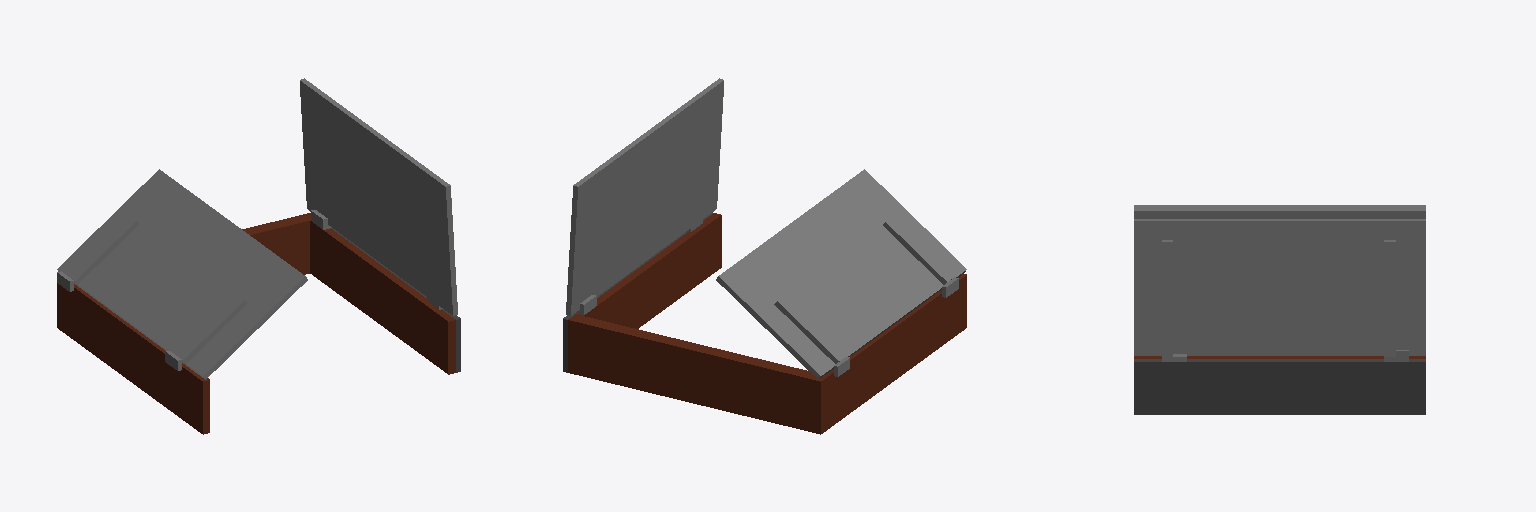
The model's file is open_window.obj.
The picture shows the model from 3 angles: view 1: azimuth 30°, elevation 25°; view 2: azimuth 150°, elevation 25°; view 3: azimuth 270°, elevation 25°; orthographic projection.
Parts seen in each view (by area): view 1: open_window; view 2: open_window; view 3: open_window.
Boxes of the visible parts, box(x1,y1,x2,y2) form: open_window: box(57, 78, 460, 434); open_window: box(563, 78, 966, 434); open_window: box(1134, 205, 1425, 414).
Bounding box in the file's own units: 1.06 × 0.7123 × 1.